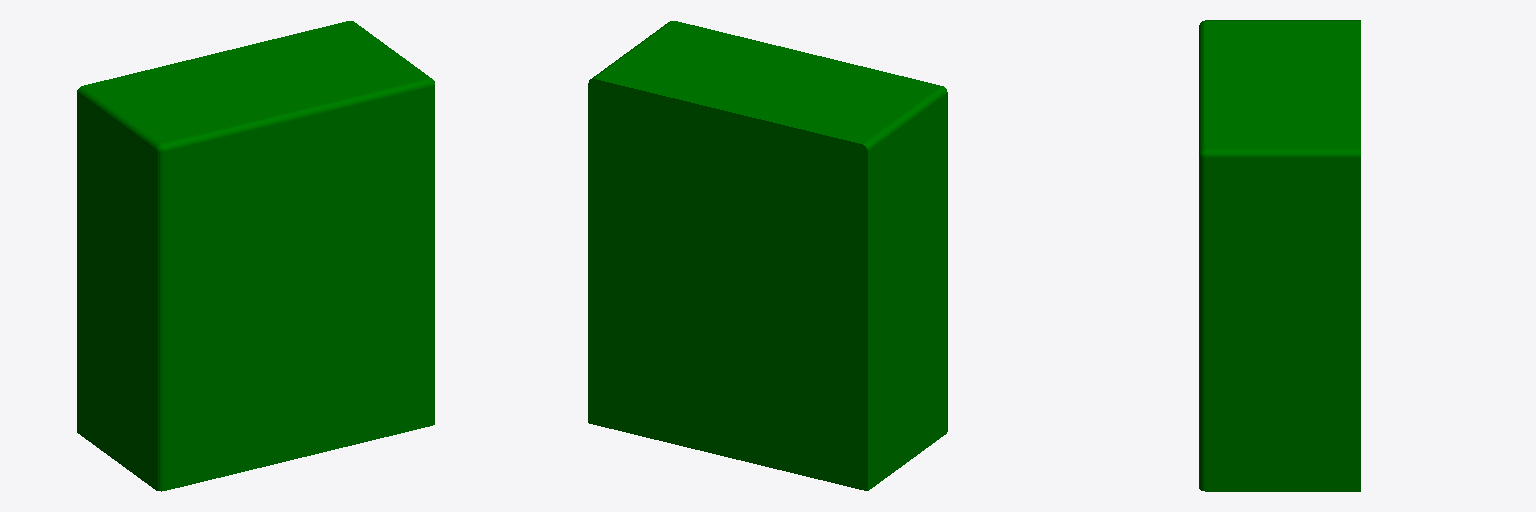
robot.urdf — colon:
<?xml version="1.0"?>

<robot name="colon">

  <link name="base_link">
    <visual>
      <geometry>
        <mesh filename="package://prostbot_gazebo/meshes/colon.stl"/>
      </geometry>
      <material name="green">
        <color rgba="0 0.5 0 1"/>
      </material>
    </visual>
  </link>
</robot>

--- Render facts (derived) ---
3 views of the same robot in one strip: view 1: azimuth 30°, elevation 25°; view 2: azimuth 150°, elevation 25°; view 3: azimuth 270°, elevation 25° (orthographic).
Robot: colon — 1 links, 0 joints (none); root link base_link; default pose: all joints at 0.
Visible links, largest first — view 1: base_link; view 2: base_link; view 3: base_link.
Boxes of the visible links, bbox=[...] form: base_link: bbox=[77, 21, 434, 491]; base_link: bbox=[588, 21, 947, 490]; base_link: bbox=[1199, 20, 1360, 491].
Bounding box of the posed robot: 98 × 50 × 116 m (x, y, z).
1 mesh visuals loaded from 1 distinct referenced files (1 binary STL).